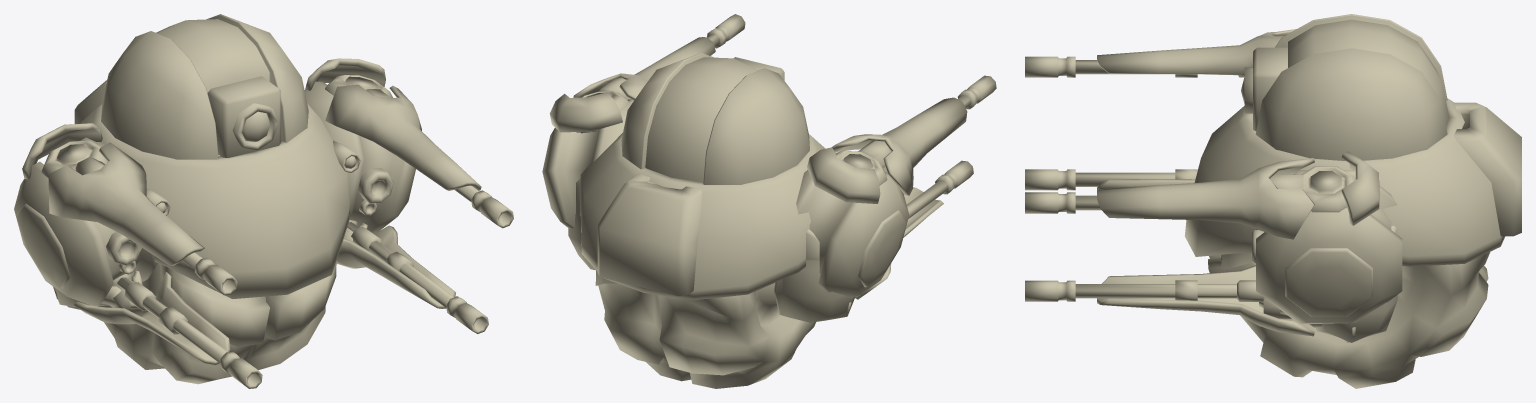
Rendered from robot01.obj.
3 views of the same model, side by side, from view 1: azimuth 30°, elevation 25°; view 2: azimuth 150°, elevation 25°; view 3: azimuth 270°, elevation 25° (orthographic). The views are drawn at different scales.
Parts seen in each view (by area): view 1: Cylinder, Cube; view 2: Cylinder, Cube; view 3: Cylinder, Cube.
Boxes of the visible parts, bbox=[...] form: Cylinder: bbox=[14, 58, 513, 388]; Cube: bbox=[52, 14, 356, 307]; Cylinder: bbox=[542, 14, 996, 388]; Cube: bbox=[568, 52, 854, 322]; Cylinder: bbox=[1025, 29, 1505, 388]; Cube: bbox=[1241, 14, 1521, 342].
Bounding box in the file's own units: 0.7934 × 0.6964 × 0.9189.
